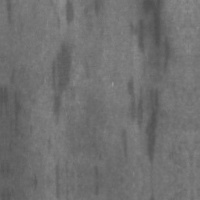inclusion: (125, 73, 169, 173), (132, 0, 172, 74), (48, 36, 80, 127), (4, 65, 28, 135), (118, 125, 133, 164), (59, 0, 78, 29), (2, 0, 16, 23)
